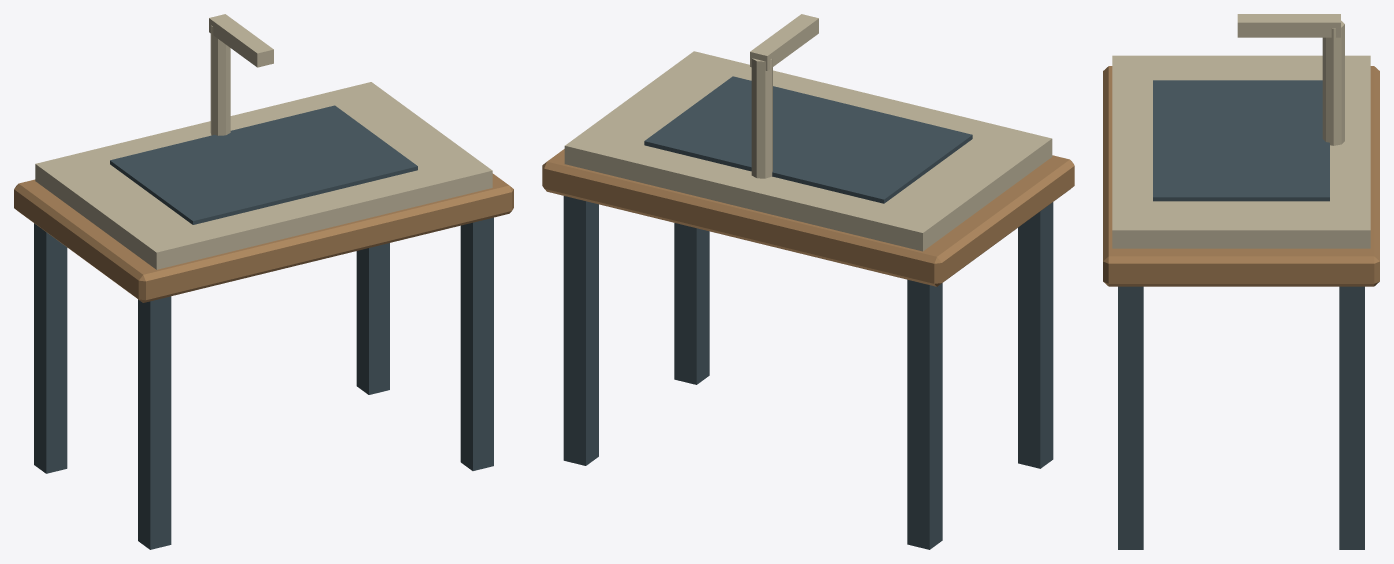
File: dishwashing_sink.glb
The picture shows the model from 3 angles, left to right: view 1: azimuth 30°, elevation 25°; view 2: azimuth 150°, elevation 25°; view 3: azimuth 270°, elevation 25°; orthographic projection. The views are drawn at different scales.
Visible parts, largest first — view 1: dishwashing_sink; view 2: dishwashing_sink; view 3: dishwashing_sink.
Boxes of the visible parts, left/top/right/bottom form: dishwashing_sink: left=14, top=14, right=513, bottom=549; dishwashing_sink: left=542, top=14, right=1074, bottom=549; dishwashing_sink: left=1103, top=14, right=1379, bottom=549.
Bounding box in the file's own units: 1.25 × 1.32 × 0.75.
